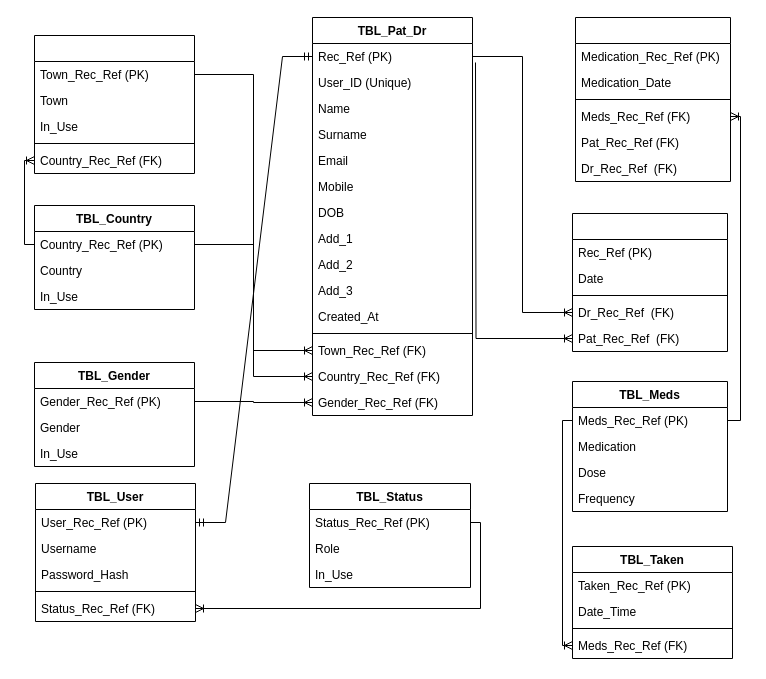
Some shapes in this 766 by 679 pixel diagram are drawn without their labels. The shapes that lost their labels are listed below. From the top down, each one's box as (x1, y1, x2, y2) in pixels, then its label:
(34, 34, 194, 174): TBL_Town
(574, 16, 730, 182): TBL_Medication
(572, 212, 728, 352): TBL_Dr_Pat
